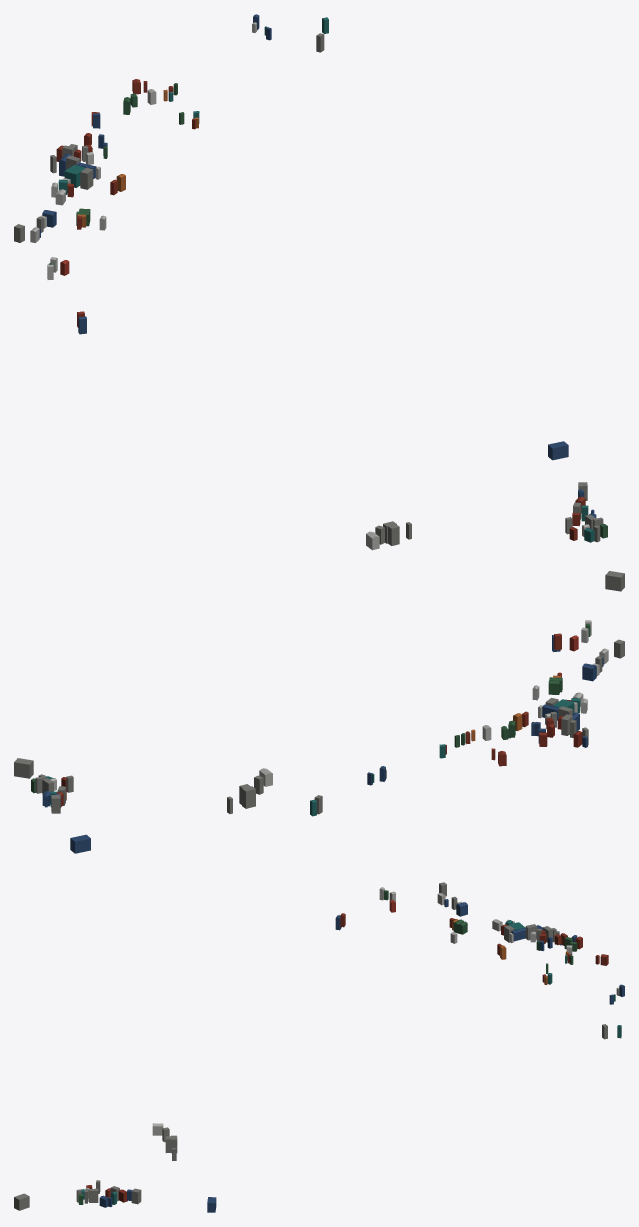
Rendered from near-15-27366-14861.d29bfb14.glb.
3 renders of one model, top to bottom at view 1: azimuth 30°, elevation 25°; view 2: azimuth 210°, elevation 25°; view 3: azimuth 270°, elevation 25°, orthographic. The views are drawn at different scales.
Size of the model in its own units: 725 by 468 by 1126.
